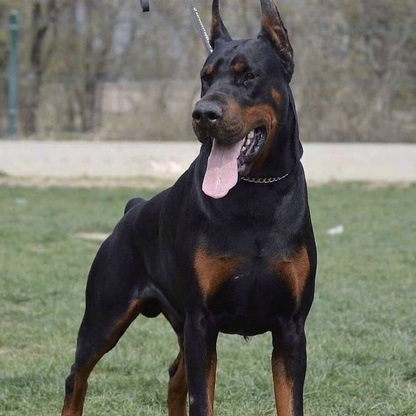doberman: (68, 6, 324, 416)
